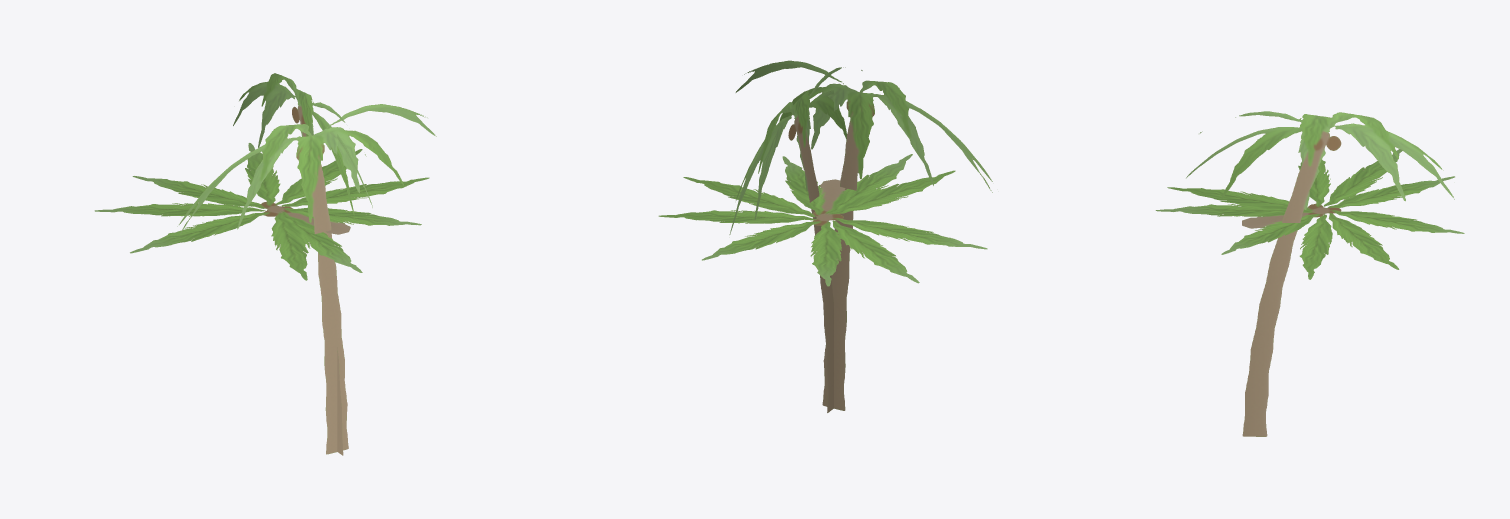
File: palm_2_far.glb
The picture shows the model from 3 angles, left to right: view 1: azimuth 30°, elevation 25°; view 2: azimuth 150°, elevation 25°; view 3: azimuth 270°, elevation 25°; orthographic projection. The views are drawn at different scales.
Visible parts, largest first — view 1: palm_2_far; view 2: palm_2_far; view 3: palm_2_far.
Boxes of the visible parts, box(x1,y1,x2,y2) form: palm_2_far: box(94, 73, 436, 455); palm_2_far: box(658, 60, 992, 412); palm_2_far: box(1155, 111, 1464, 436).
Bounding box in the file's own units: 7.34 × 7.34 × 7.34.
1 material, 1 textured.
